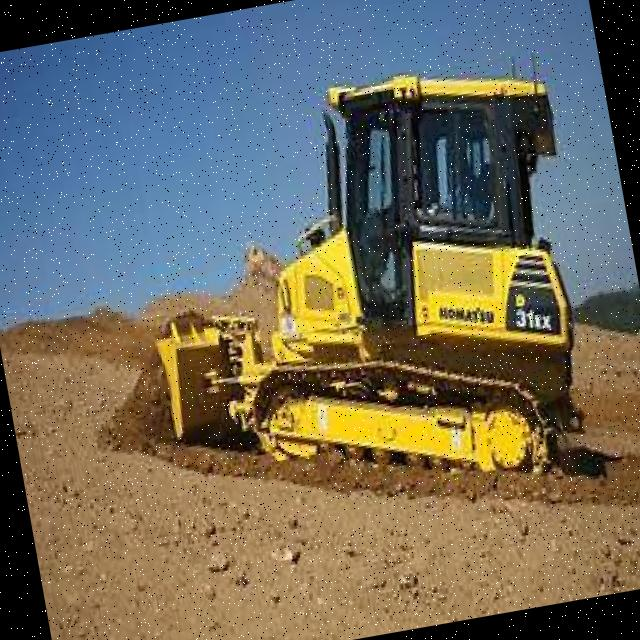Bulldozer: (96, 29, 636, 558)
